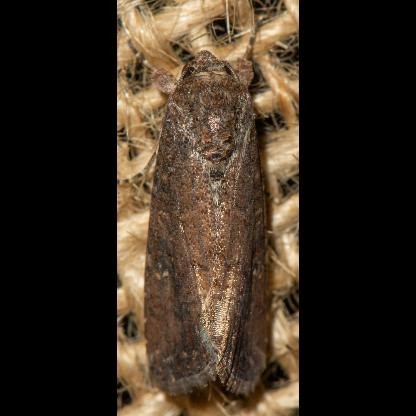Fall Armyworm Moth: (123, 13, 277, 404)
